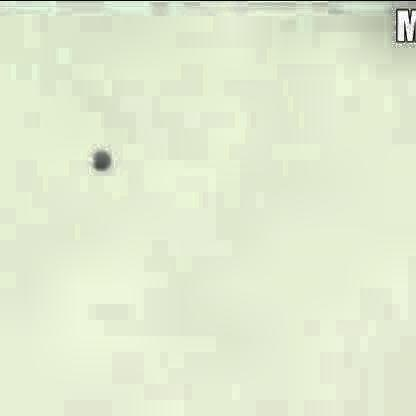golfball: (88, 147, 110, 169)
